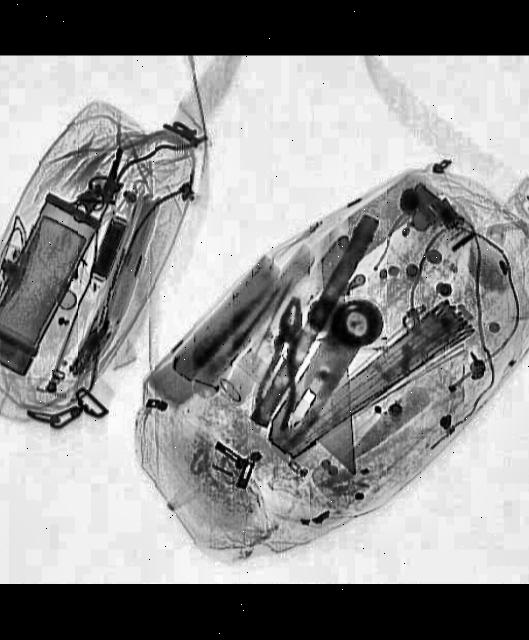Pliers: (248, 294, 320, 429)
